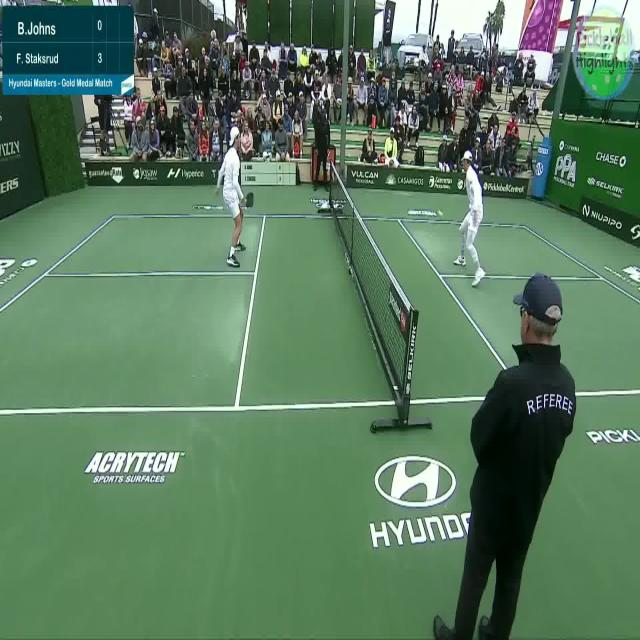ball: (437, 209, 443, 218)
